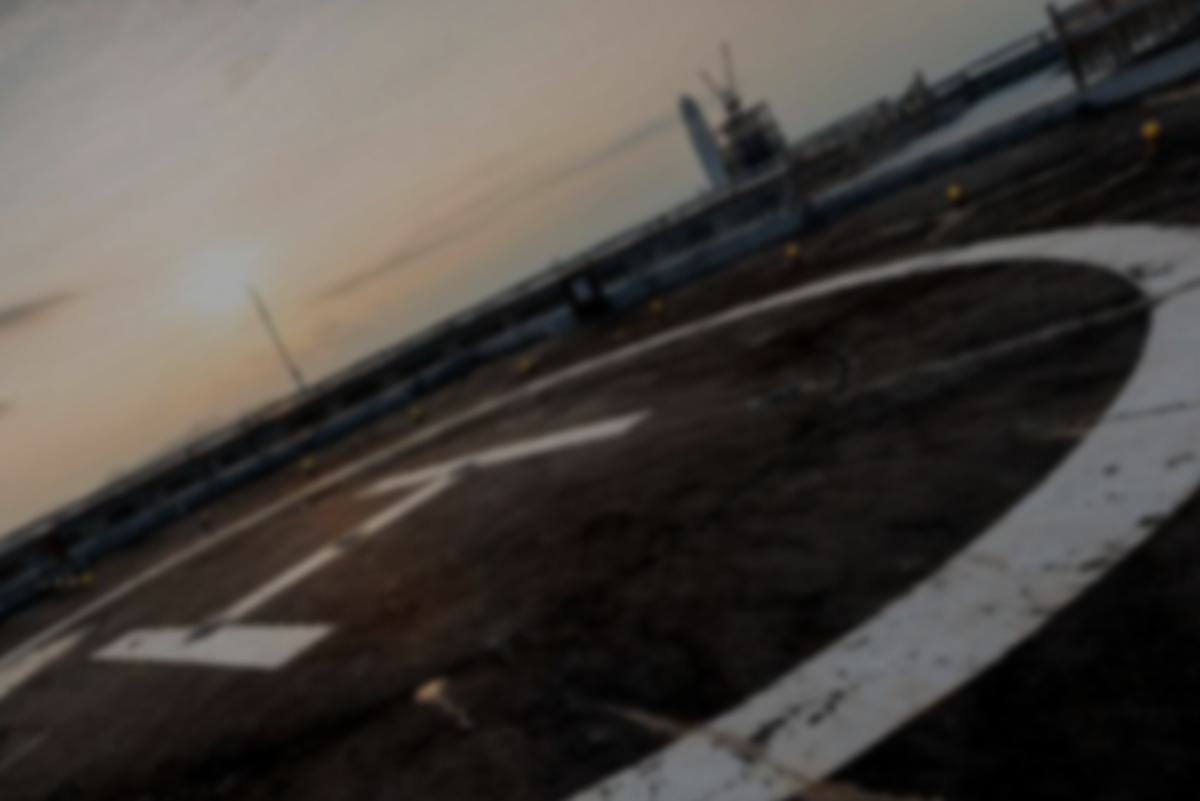Apron: (5, 165, 1200, 801)
